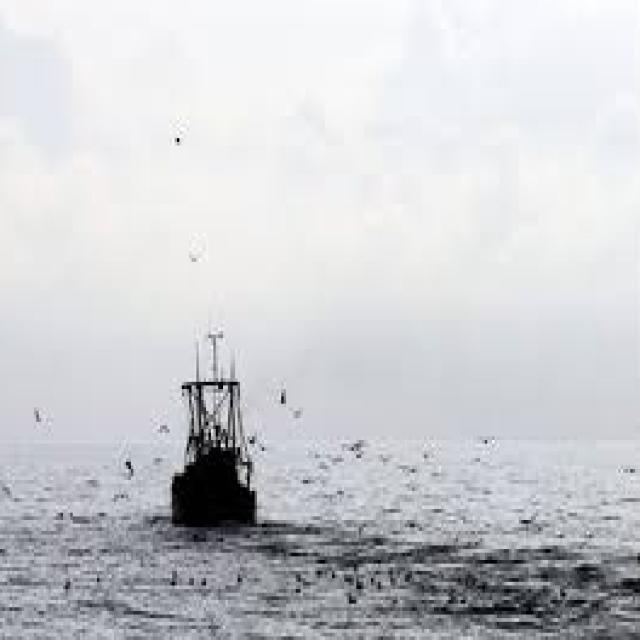fishing boat: (168, 326, 266, 545)
